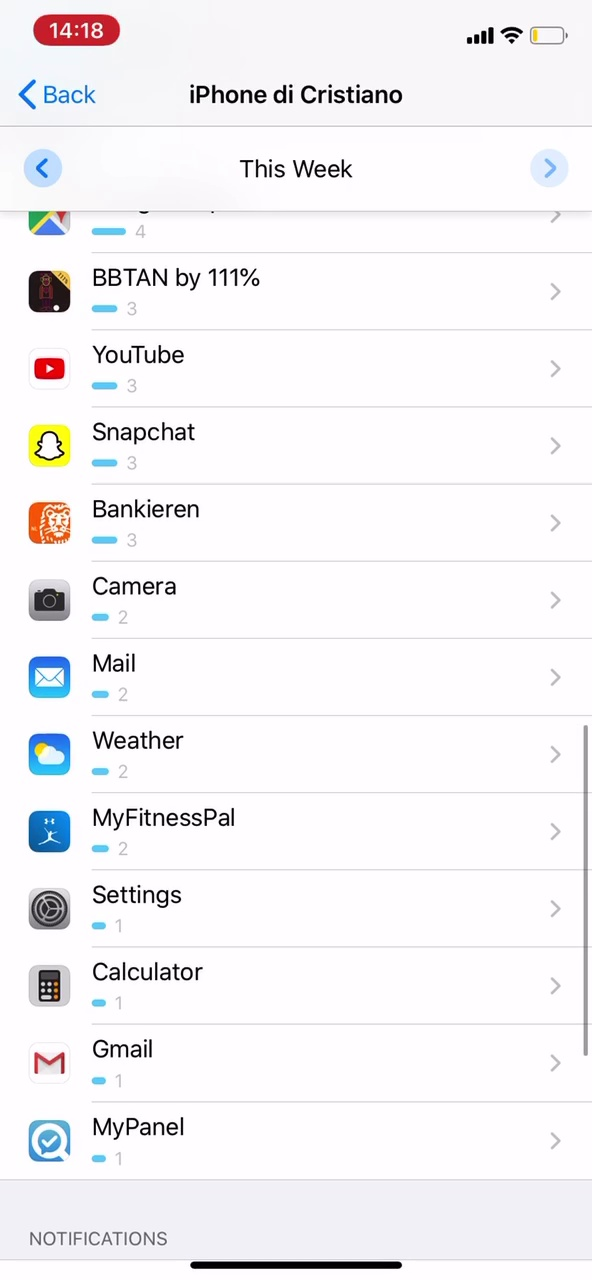pick_app: (25, 1024, 359, 1107), (20, 947, 347, 1028), (26, 482, 340, 566), (17, 797, 322, 875), (25, 336, 337, 410), (20, 261, 334, 333), (22, 1110, 381, 1171), (15, 877, 320, 947), (15, 421, 351, 483), (23, 569, 300, 639), (15, 722, 284, 792), (17, 639, 234, 717)
week: (221, 150, 368, 185)
